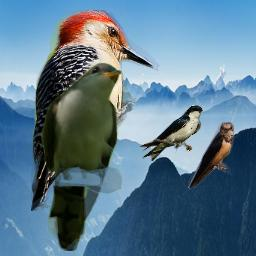Cuckoo: (41, 62, 123, 251)
Swallow: (138, 105, 203, 161), (188, 122, 234, 191)
Woodpecker: (31, 10, 160, 211)
